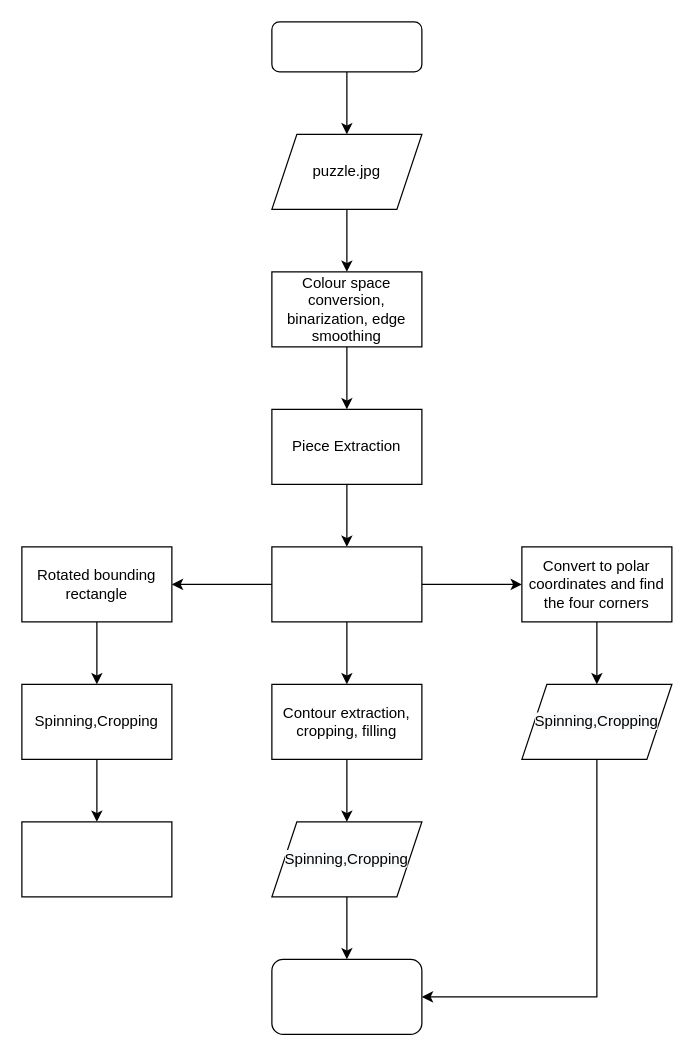
Some shapes in this 694 by 1056 pixel diagram are drawn without their labels. The centre of each missing label's shape, as x and y in pixels:
"Big errors in some pieces" belongs at (x=96, y=859).
"End" belongs at (x=346, y=996).
"Pieces expansion" belongs at (x=346, y=584).
"Start" belongs at (x=346, y=46).
